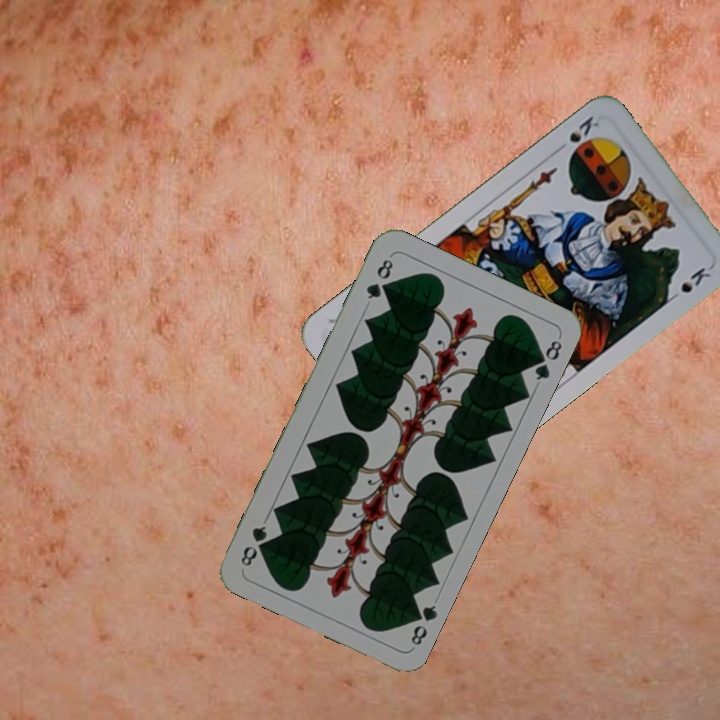G8: (405, 600, 440, 648), (362, 255, 396, 302)
SK: (565, 111, 602, 146)
